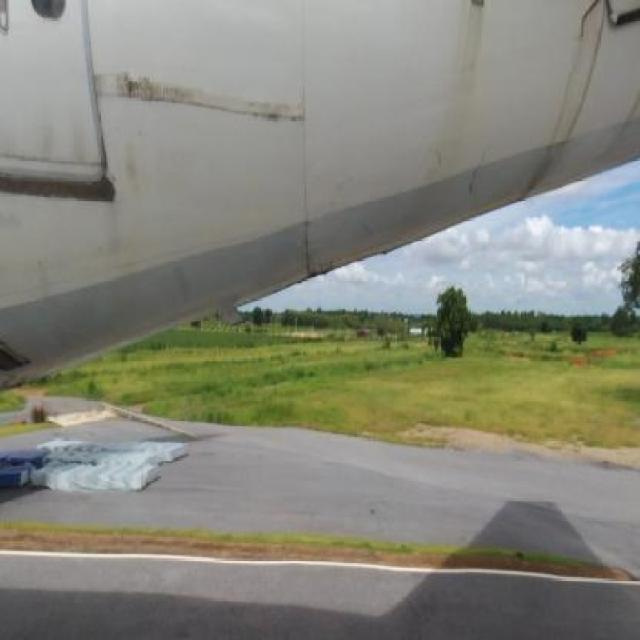Rust: (426, 0, 499, 202), (7, 101, 99, 188), (555, 1, 602, 170), (104, 61, 224, 127), (282, 209, 348, 283), (232, 82, 303, 142), (611, 68, 640, 174), (515, 138, 556, 210)
